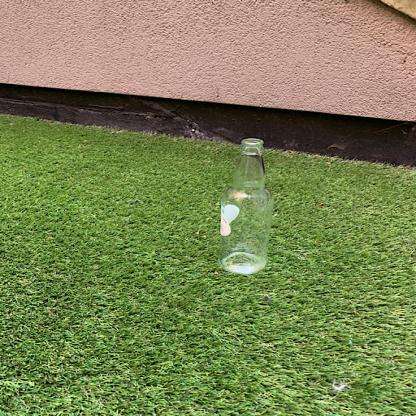trash: (216, 132, 275, 274)
